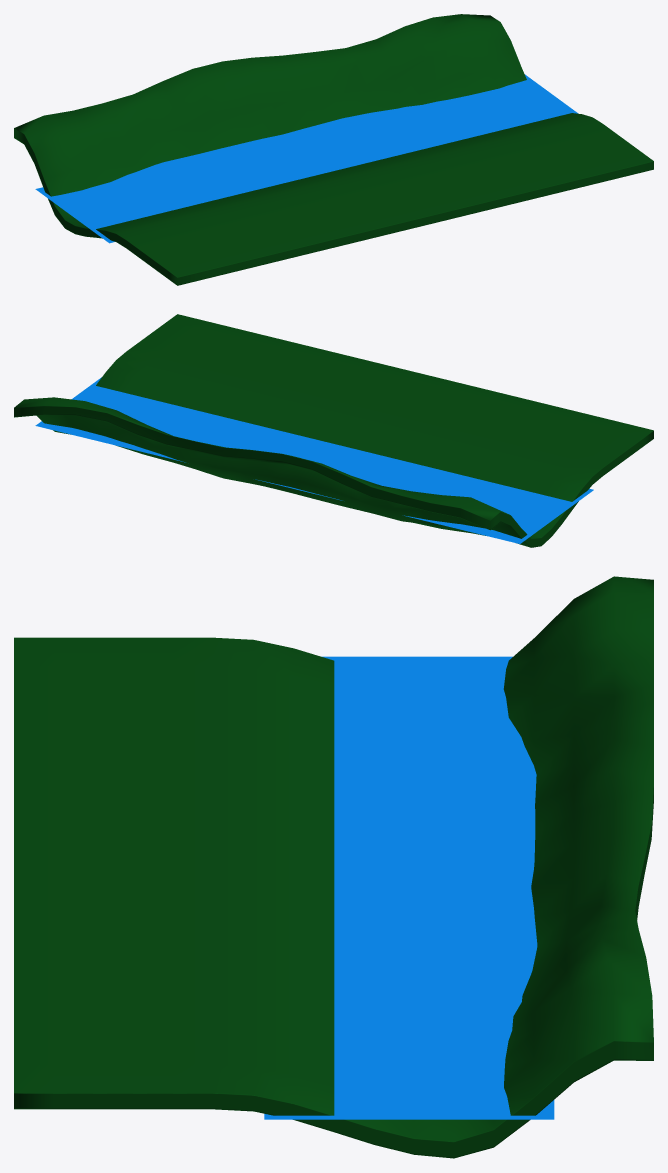
File: Mapa.fbx
The picture shows the model from 3 angles, top to bottom: view 1: azimuth 30°, elevation 25°; view 2: azimuth 150°, elevation 25°; view 3: azimuth 270°, elevation 25°; orthographic projection. The views are drawn at different scales.
Visible parts, largest first — view 1: Terreno, Agua; view 2: Terreno, Agua; view 3: Terreno, Agua.
Part boxes in pixels (bbox=[...]): Terreno: bbox=[14, 14, 653, 285]; Agua: bbox=[35, 74, 577, 243]; Terreno: bbox=[14, 314, 653, 547]; Agua: bbox=[35, 377, 593, 543]; Terreno: bbox=[14, 576, 653, 1158]; Agua: bbox=[264, 656, 554, 1119].
Bounding box in the file's own units: 2424 × 378 × 1416.
